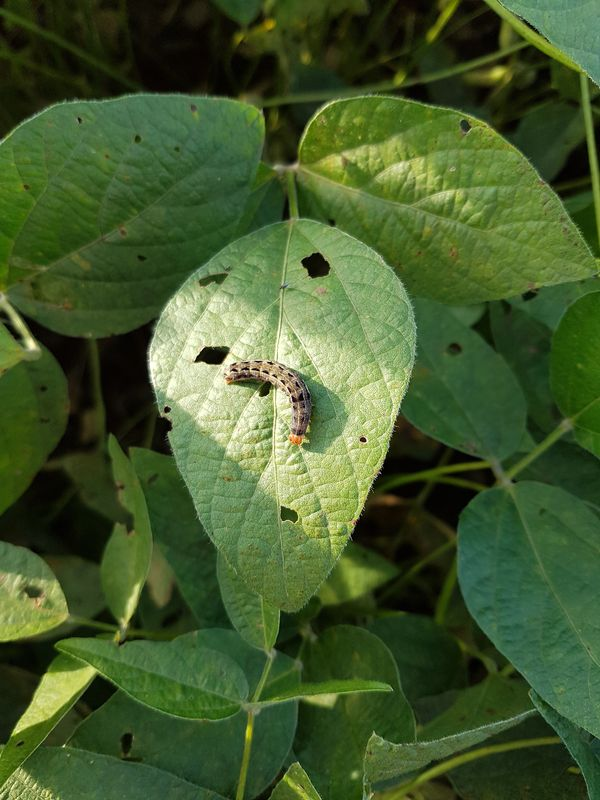Spodoptera_albula: (206, 346, 328, 466)
